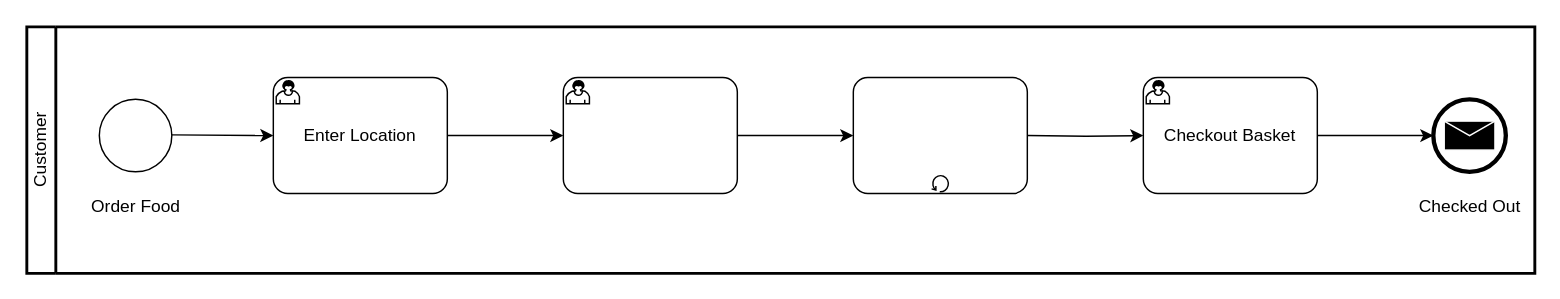
This 1560x299 diagram has some shape labels left out. The box of each missing label's shape, as (x1, y1, x2, y2) in pixels:
Add Menu Choices to Basket: (852, 76, 1027, 194)
Choose Restaurant: (562, 76, 737, 194)
